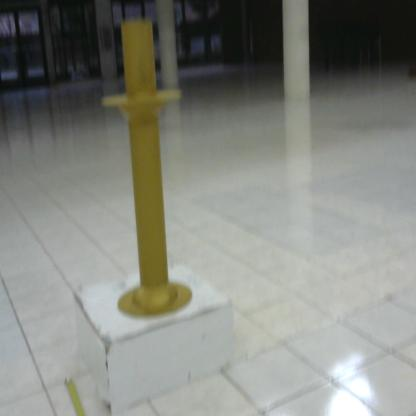pole: (96, 13, 202, 336)
